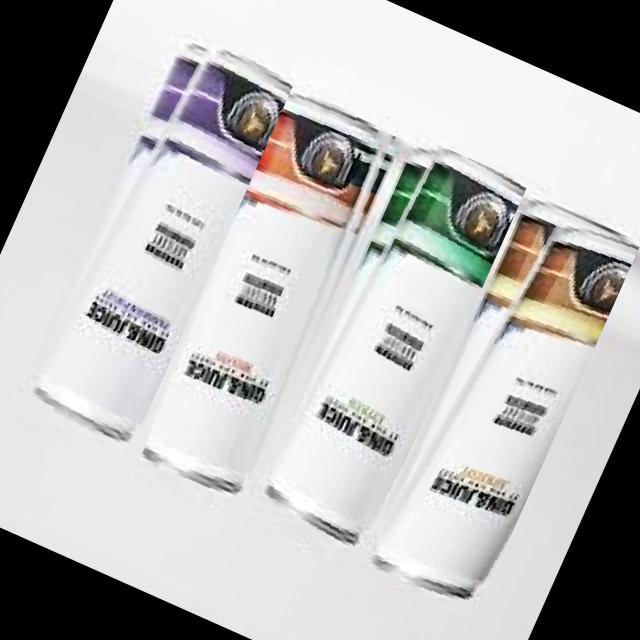Cans: (3, 27, 296, 476), (123, 77, 414, 517), (242, 133, 527, 568), (358, 186, 640, 616)
